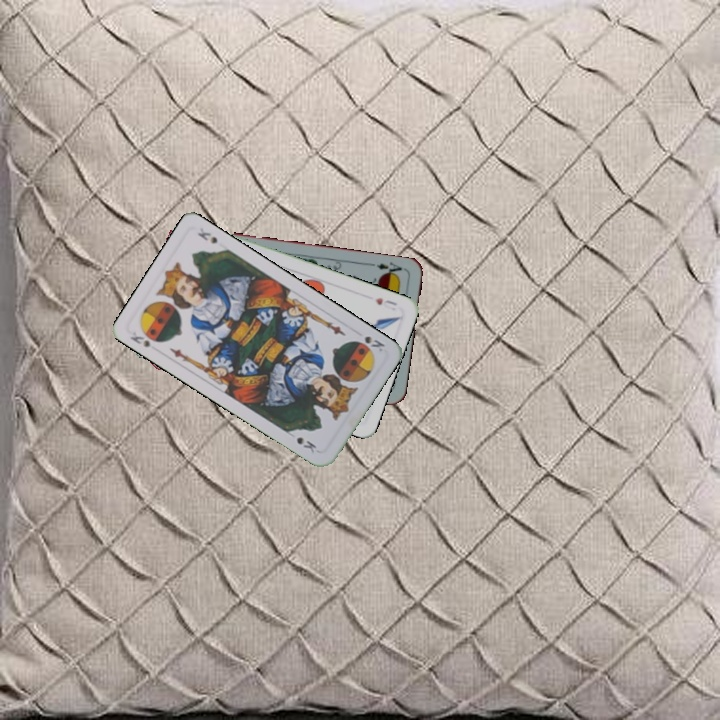EA: (373, 258, 407, 279)
HU: (371, 294, 400, 313)
SK: (126, 327, 153, 350), (360, 332, 387, 354)
